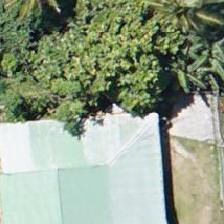coconut_tree: (137, 0, 223, 47)
